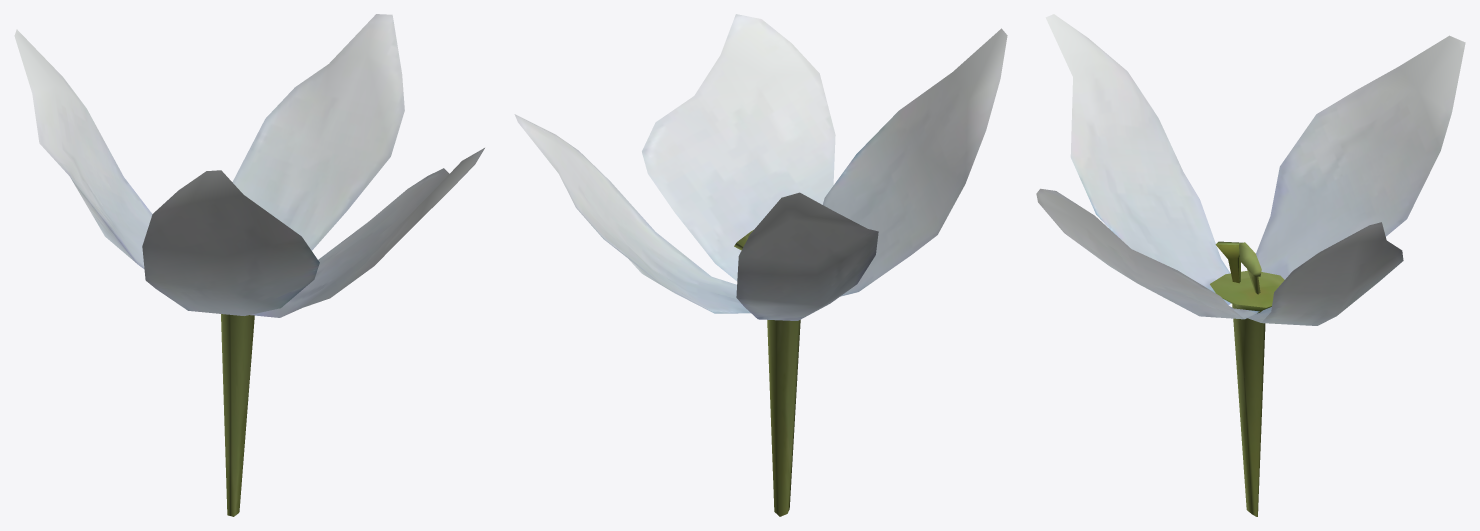
The model's file is white_flower.glb.
3 renders of one model, left to right at view 1: azimuth 30°, elevation 25°; view 2: azimuth 150°, elevation 25°; view 3: azimuth 270°, elevation 25°, orthographic. The views are drawn at different scales.
Visible parts, largest first — view 1: SkillObj_Durin_Flower_Model; view 2: SkillObj_Durin_Flower_Model; view 3: SkillObj_Durin_Flower_Model.
Boxes of the visible parts, x1=… form: SkillObj_Durin_Flower_Model: x1=14, y1=14, x2=484, y2=516; SkillObj_Durin_Flower_Model: x1=514, y1=14, x2=1007, y2=516; SkillObj_Durin_Flower_Model: x1=1036, y1=14, x2=1465, y2=516.
Size of the model in its own units: 0.0371 by 0.0443 by 0.039.
Materials: 1 (1 with a texture image).
